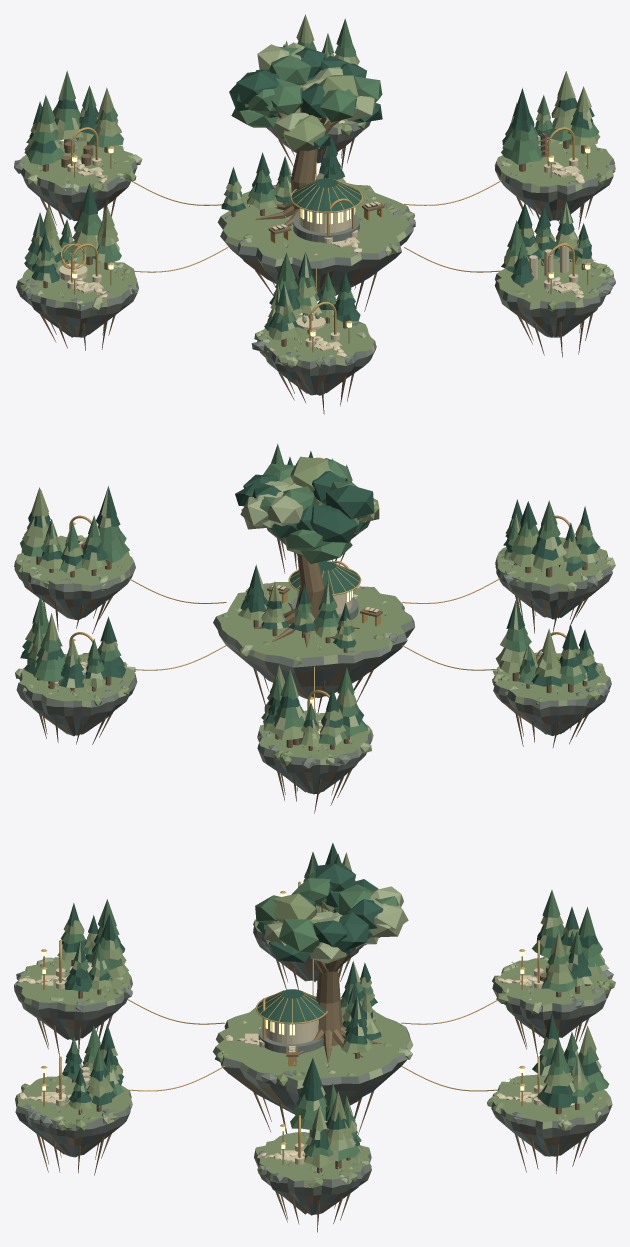
Rendered from school.glb.
3 views of the same model, one above another, from view 1: azimuth 30°, elevation 25°; view 2: azimuth 150°, elevation 25°; view 3: azimuth 270°, elevation 25° (orthographic).
Visible parts, largest first — view 1: island_library_geometry, island_questions_geometry, island_futures_geometry, island_experiments_geometry, island_memory_geometry, island_people_geometry, foliage_memory_5, foliage_people_5, foliage_futures_1, island_reflection_geometry, foliage_people_2, foliage_memory_1 (+22 smaller); view 2: island_library_geometry, island_reflection_geometry, island_memory_geometry, island_futures_geometry, island_people_geometry, island_experiments_geometry, foliage_people_2, foliage_futures_1, foliage_experiments_3, foliage_memory_5, foliage_reflection_2, foliage_memory_1 (+22 smaller); view 3: island_library_geometry, island_questions_geometry, island_reflection_geometry, island_experiments_geometry, island_memory_geometry, island_people_geometry, foliage_reflection_0, foliage_memory_5, foliage_memory_1, island_futures_geometry, foliage_people_0, foliage_memory_0 (+15 smaller).
Part boxes in pixels (x1=…): island_library_geometry: x1=217, y1=42, x2=415, y2=311; island_questions_geometry: x1=494, y1=243, x2=615, y2=357; island_futures_geometry: x1=16, y1=243, x2=138, y2=350; island_experiments_geometry: x1=251, y1=301, x2=376, y2=414; island_memory_geometry: x1=494, y1=127, x2=615, y2=229; island_people_geometry: x1=14, y1=127, x2=142, y2=229; foliage_memory_5: x1=501, y1=88, x2=541, y2=171; foliage_people_5: x1=26, y1=95, x2=64, y2=171; foliage_futures_1: x1=69, y1=183, x2=101, y2=265; island_reflection_geometry: x1=266, y1=85, x2=370, y2=169; foliage_people_2: x1=52, y1=70, x2=83, y2=148; foliage_memory_1: x1=549, y1=71, x2=577, y2=148; island_library_geometry: x1=213, y1=456, x2=414, y2=712; island_reflection_geometry: x1=15, y1=632, x2=137, y2=744; island_memory_geometry: x1=14, y1=515, x2=135, y2=633; island_futures_geometry: x1=492, y1=632, x2=611, y2=747; island_people_geometry: x1=257, y1=690, x2=373, y2=813; island_experiments_geometry: x1=495, y1=515, x2=615, y2=633; foliage_people_2: x1=267, y1=669, x2=305, y2=747; foliage_futures_1: x1=495, y1=599, x2=537, y2=681; foliage_experiments_3: x1=531, y1=500, x2=566, y2=577; foliage_memory_5: x1=96, y1=486, x2=129, y2=569; foliage_reflection_2: x1=32, y1=613, x2=65, y2=688; foliage_memory_1: x1=20, y1=487, x2=60, y2=564; island_library_geometry: x1=212, y1=863, x2=413, y2=1134; island_questions_geometry: x1=15, y1=1056, x2=132, y2=1175; island_reflection_geometry: x1=487, y1=1056, x2=612, y2=1173; island_experiments_geometry: x1=14, y1=940, x2=132, y2=1056; island_memory_geometry: x1=254, y1=1115, x2=371, y2=1232; island_people_geometry: x1=492, y1=940, x2=615, y2=1057; foliage_reflection_0: x1=537, y1=1038, x2=575, y2=1114; foliage_memory_5: x1=290, y1=1058, x2=327, y2=1134; foliage_memory_1: x1=326, y1=1091, x2=360, y2=1169; island_futures_geometry: x1=253, y1=881, x2=364, y2=989; foliage_people_0: x1=541, y1=932, x2=575, y2=997; foliage_memory_0: x1=304, y1=1106, x2=333, y2=1173.
Size of the model in its own units: 22.55 by 9.09 by 20.06.
